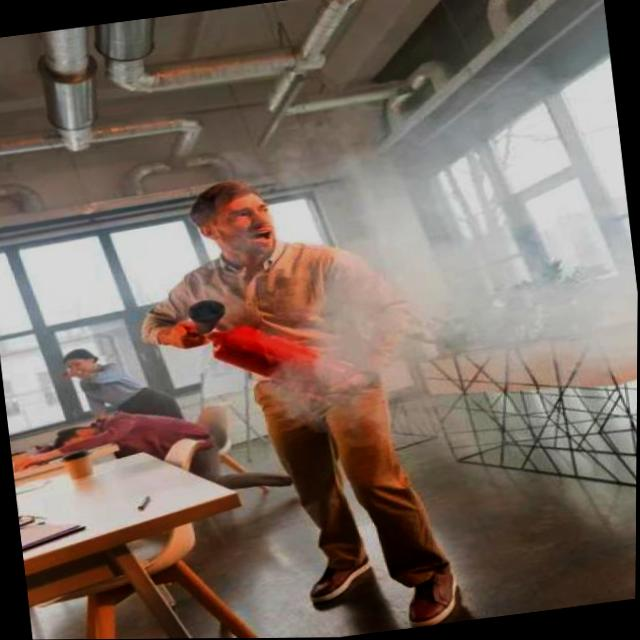FireExtinguisher: (152, 280, 341, 413)
